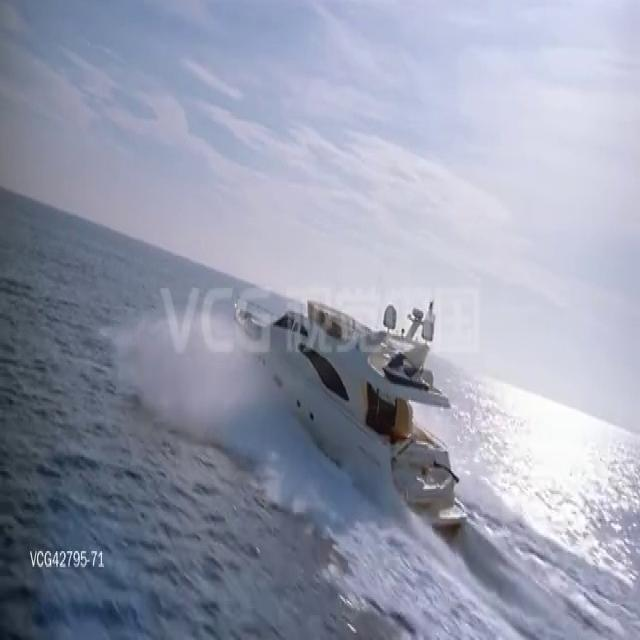houseboat: (233, 285, 471, 535)
